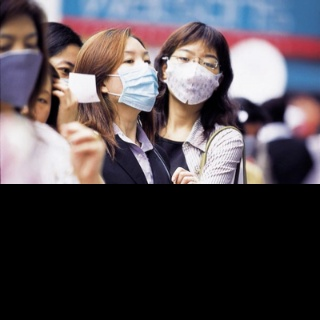with_mask: (0, 31, 43, 109), (167, 47, 220, 107), (107, 49, 158, 110)
